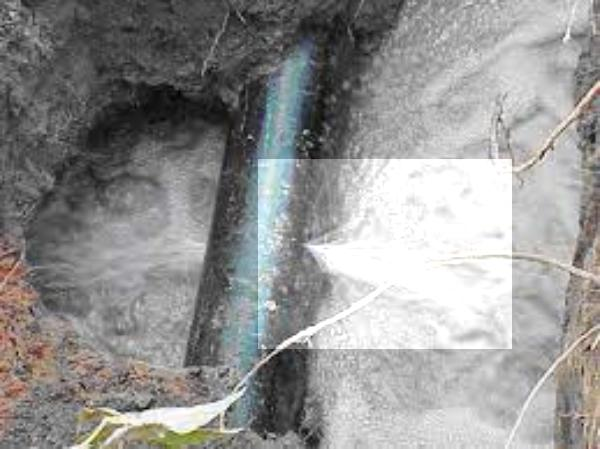water: (258, 159, 512, 349)
